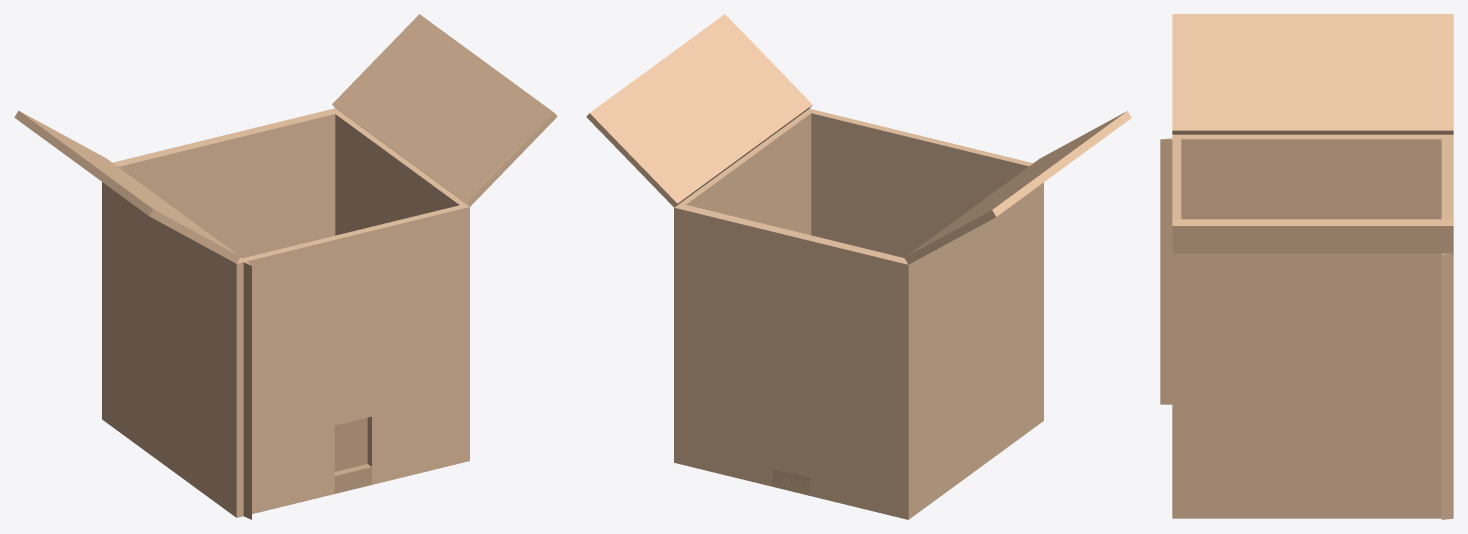
File: cardboardBoxOpen.glb
The picture shows the model from 3 angles, left to right: view 1: azimuth 30°, elevation 25°; view 2: azimuth 150°, elevation 25°; view 3: azimuth 270°, elevation 25°; orthographic projection. The views are drawn at different scales.
Visible parts, largest first — view 1: cardboardBoxOpen(Clone); view 2: cardboardBoxOpen(Clone); view 3: cardboardBoxOpen(Clone).
Part boxes in pixels (x1,y1,x2,y2): cardboardBoxOpen(Clone): (14,14,557,519); cardboardBoxOpen(Clone): (586,14,1131,519); cardboardBoxOpen(Clone): (1160,14,1453,519).
Size of the model in its own units: 0.3719 by 0.2862 by 0.2218.
